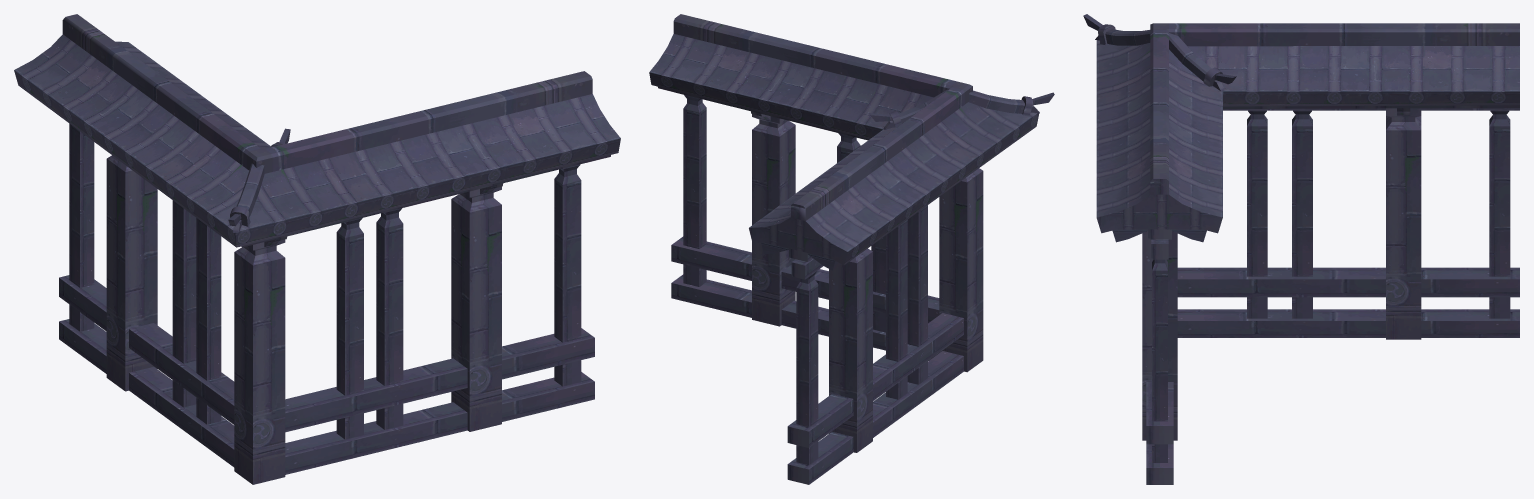
File: Homeworld_Exterior_Dq_Build_House_07_Lod0.fbx
3 views of the same model, side by side, from view 1: azimuth 30°, elevation 25°; view 2: azimuth 150°, elevation 25°; view 3: azimuth 270°, elevation 25° (orthographic). The views are drawn at different scales.
Parts seen in each view (by area): view 1: Homeworld_Exterior_Dq_Build_House_07_Lod0; view 2: Homeworld_Exterior_Dq_Build_House_07_Lod0; view 3: Homeworld_Exterior_Dq_Build_House_07_Lod0.
Part boxes in pixels (x1=…): Homeworld_Exterior_Dq_Build_House_07_Lod0: x1=14, y1=14, x2=620, y2=484; Homeworld_Exterior_Dq_Build_House_07_Lod0: x1=649, y1=14, x2=1054, y2=484; Homeworld_Exterior_Dq_Build_House_07_Lod0: x1=1083, y1=14, x2=1519, y2=484.
Bounding box in the file's own units: 4.86 × 3.75 × 4.84.
Materials: 1 (1 with a texture image).
